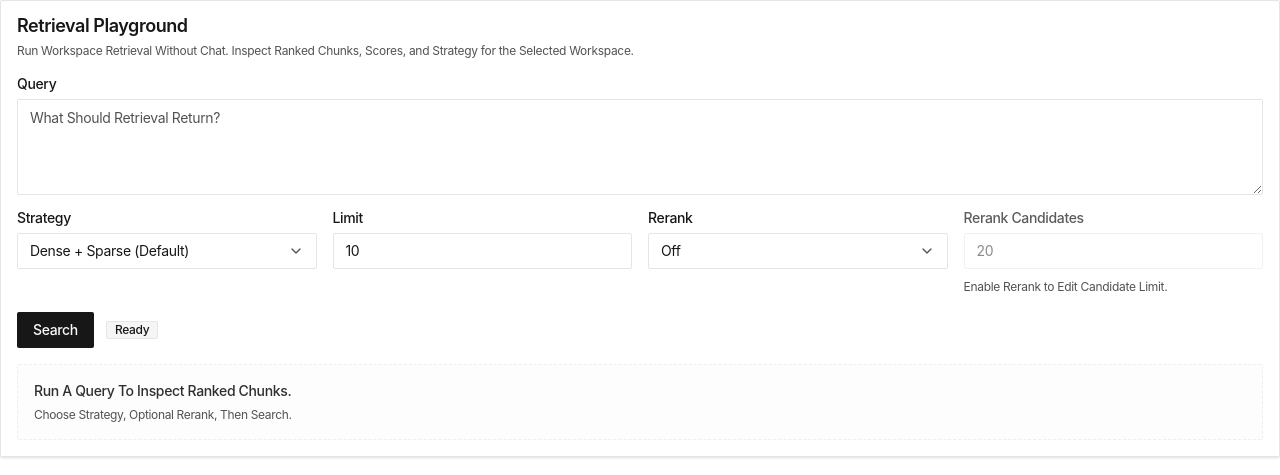
Test: RetrievalPlaygroundPanel › redacts secrets from retrieval API failure copy
In the text box labelled "Query": [640, 146] box [17,98,1263,194], type "secret leak"
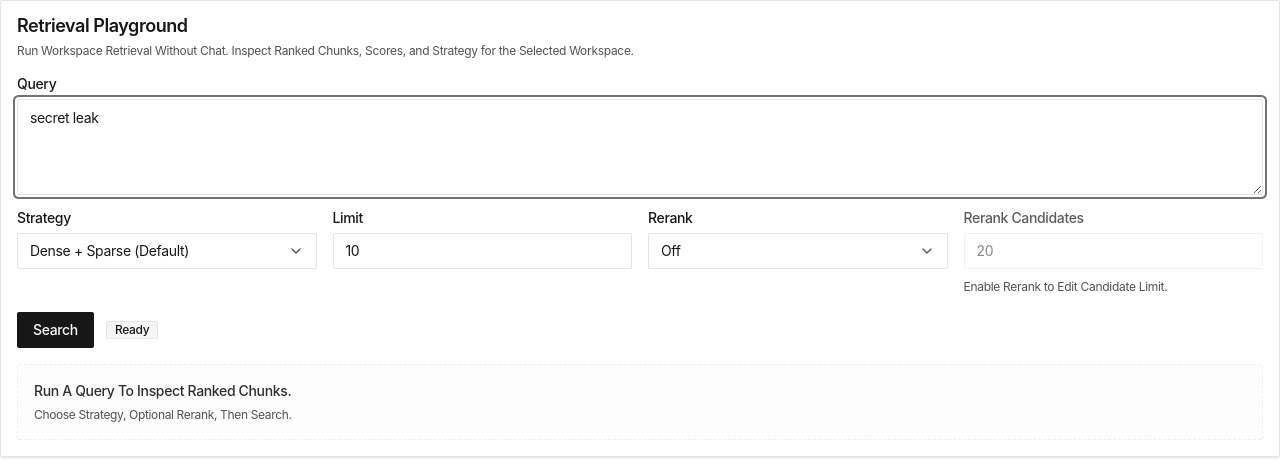
Click the button "Search": [55, 330] box [17,312,94,348]
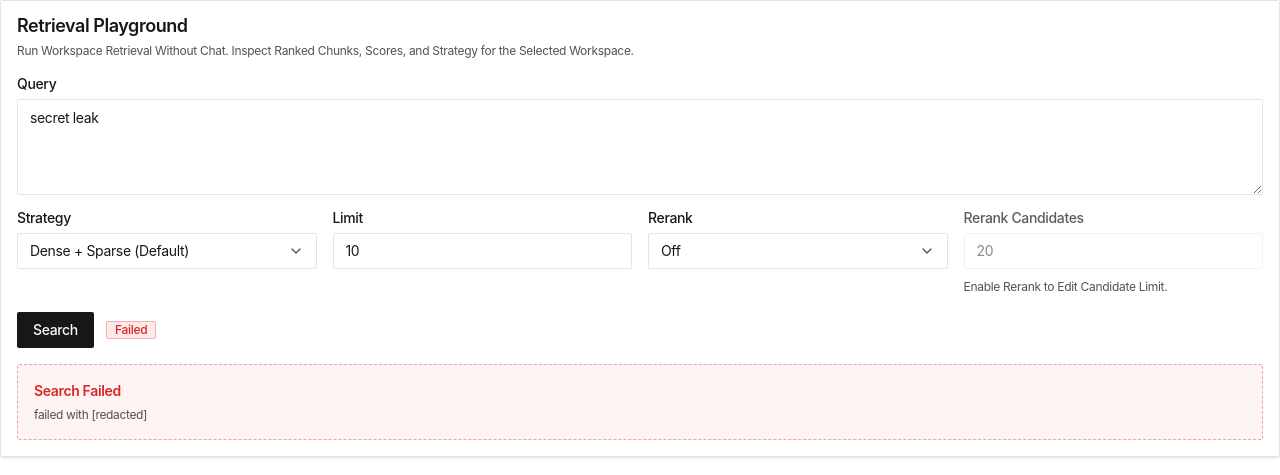
Check: the text "failed with [redacted]" is shown, box [34,407,147,422]
